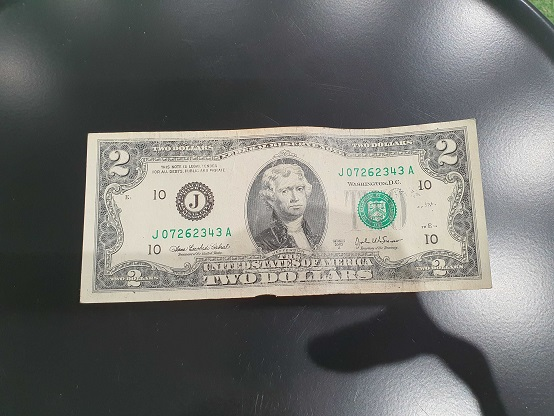2dollar: (77, 122, 492, 304)
